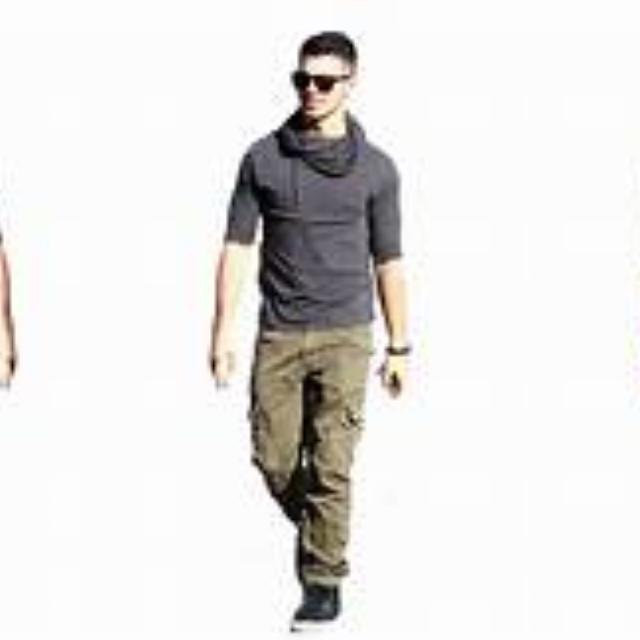person: (211, 16, 445, 608), (608, 16, 640, 608), (0, 16, 13, 608)
